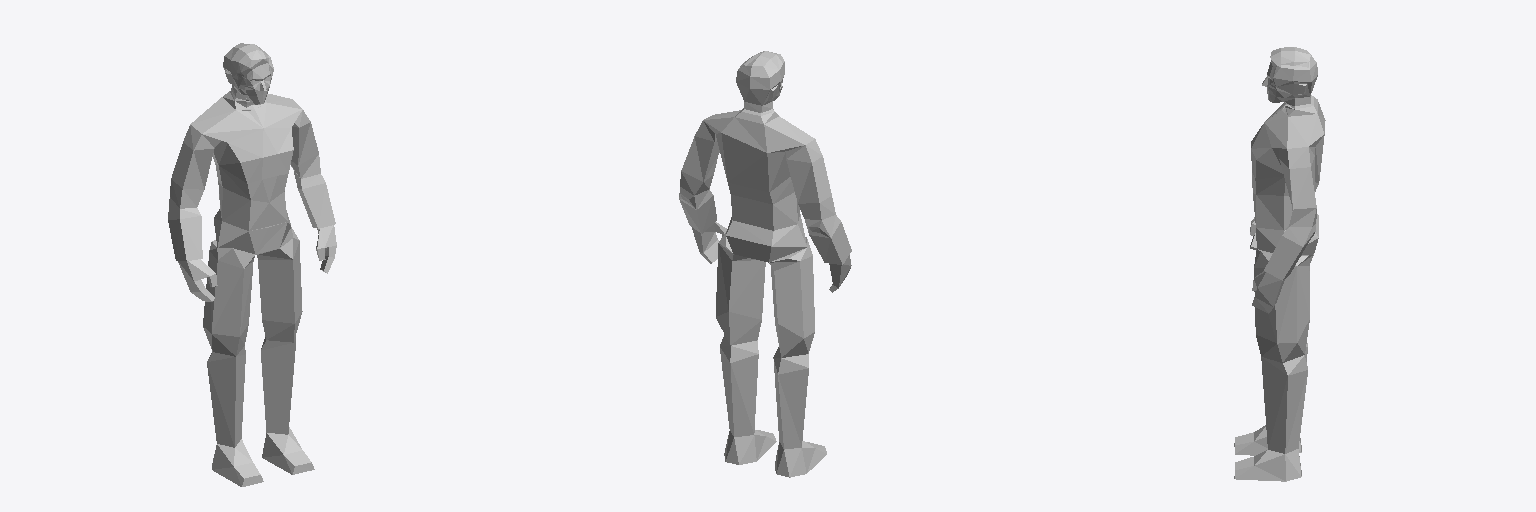
Rendered from Manuel13.obj.
3 renders of one model, left to right at view 1: azimuth 30°, elevation 25°; view 2: azimuth 150°, elevation 25°; view 3: azimuth 270°, elevation 25°, orthographic.
Visible parts, largest first — view 1: leon; view 2: leon; view 3: leon.
Part boxes in pixels (x1,y1,x2,y2): leon: (168, 43, 336, 486); leon: (679, 51, 851, 477); leon: (1234, 47, 1325, 481).
Bounding box in the file's own units: 4.79 × 12.18 × 2.44.